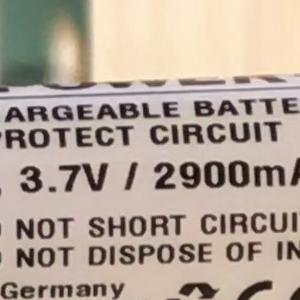3.7V: (10, 153, 113, 203)
